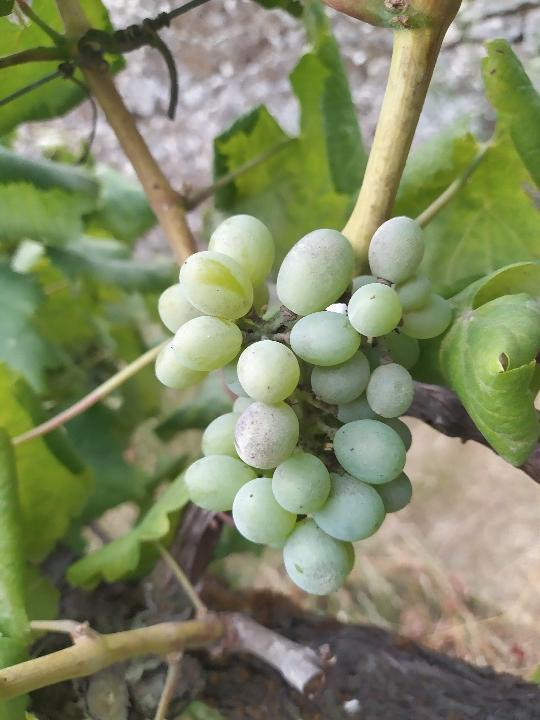grape: (151, 212, 458, 599)
